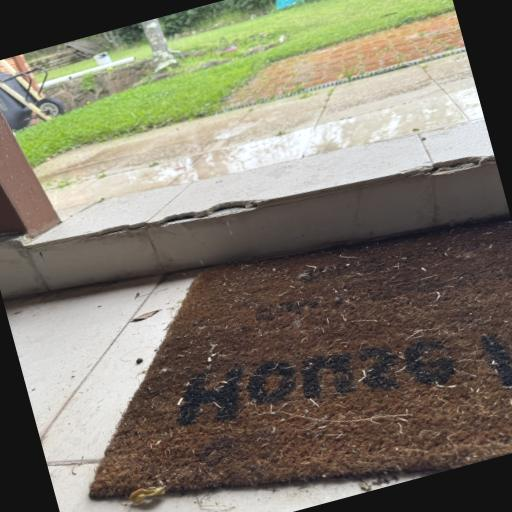step: (25, 119, 509, 289)
